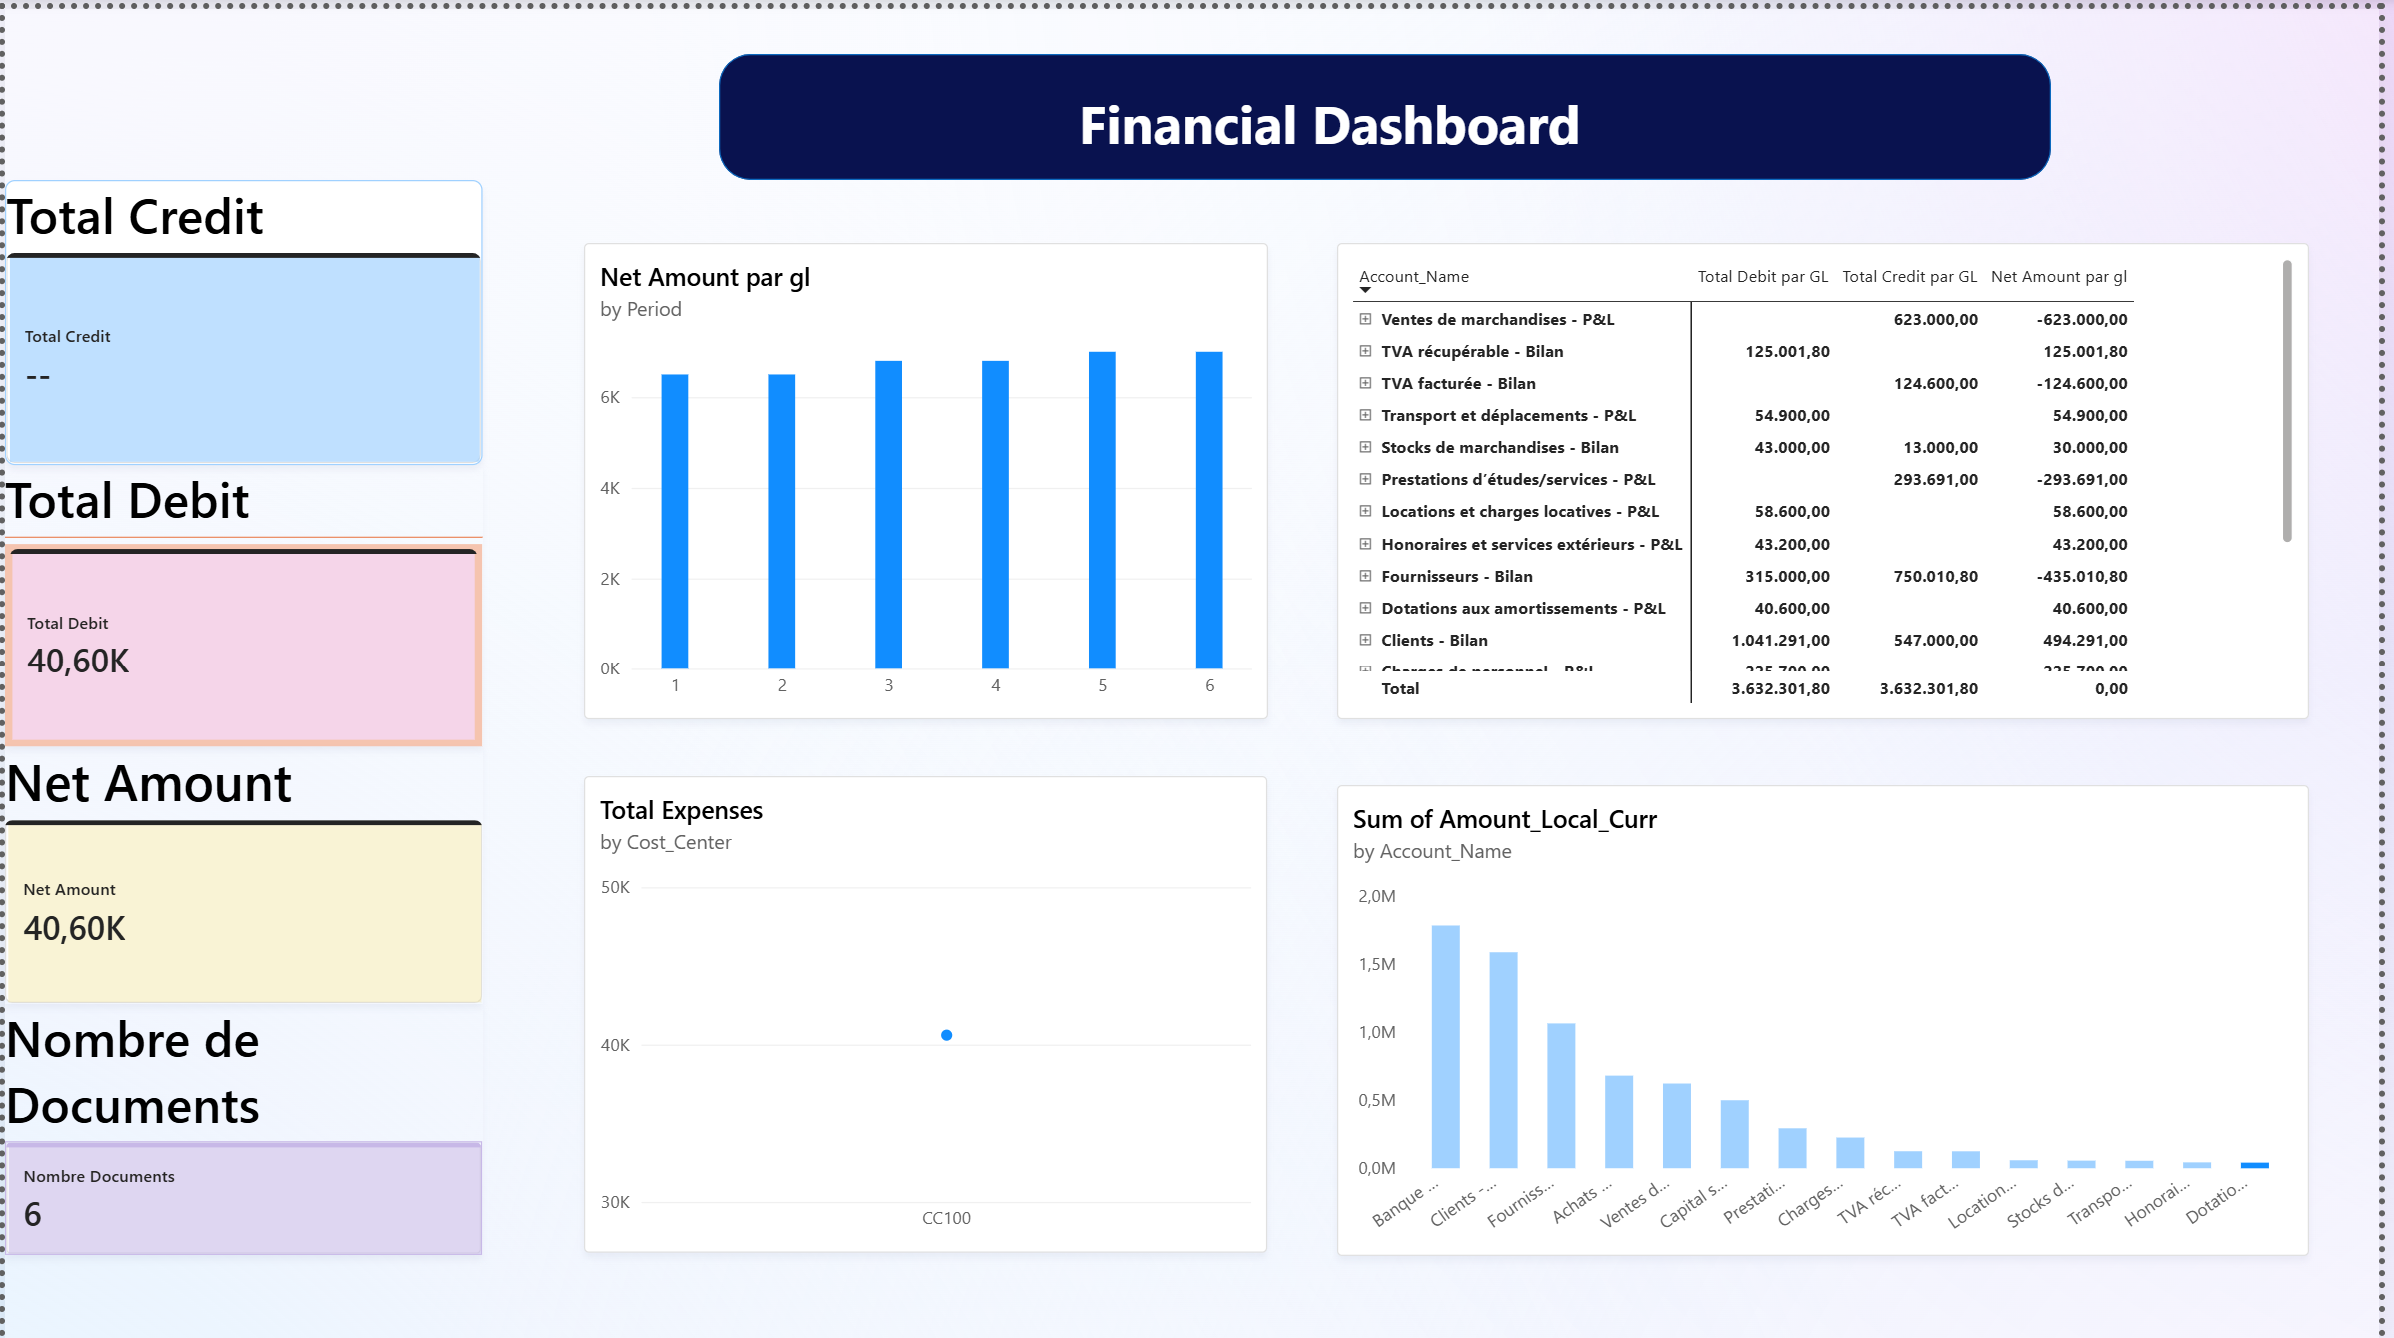

The page's visual inventory and layout, read from the dashboard file:
{"tool":"powerbi","page":{"name":"Executive Financial Overview","canvas":[1920,1080],"ordinal":0},"visuals":[{"type":"cardVisual","title":"Total Debit","fields":{"Data":["CLEAN_ACDOCA.Total Debit"]},"box":[0,368.8,386.3,228.3],"z":0},{"type":"cardVisual","title":"Total Credit","fields":{"Data":["CLEAN_ACDOCA.Total Credit"]},"box":[0,138,386.3,230.8],"z":1000},{"type":"cardVisual","title":"Net Amount","fields":{"Data":["CLEAN_ACDOCA.Net Amount"]},"box":[0,597.1,386.3,208.2],"z":2000},{"type":"cardVisual","title":"Nombre de Documents","fields":{"Data":["CLEAN_ACDOCA.Nombre Documents"]},"box":[0,805.3,386.3,203.2],"z":3000},{"type":"columnChart","fields":{"Category":["CLEAN_ACDOCA.Account_Name"],"Y":["Sum(CLEAN_ACDOCA.Amount_Local_Curr)"]},"box":[1164,574.5,644.7,461.6],"z":4000},{"type":"lineChart","fields":{"Category":["CLEAN_ACDOCA.Cost_Center"],"Y":["CLEAN_ACDOCA.Total Expenses"]},"box":[469.1,622.2,552.8,385.6],"z":5000},{"type":"pivotTable","fields":{"Rows":["CLEAN_ACDOCA.Account_Name","CLEAN_ACDOCA.GL_Account"],"Values":["CLEAN_ACDOCA.Total Debit par GL","CLEAN_ACDOCA.Total Credit par GL","CLEAN_ACDOCA.Net Amount par gl"]},"box":[1078.8,37.6,816.4,462.9],"z":6000},{"type":"columnChart","fields":{"Category":["CLEAN_ACDOCA.Period"],"Y":["CLEAN_ACDOCA.Net Amount par gl"]},"box":[469.1,67.7,551.9,386.3],"z":7000}]}

Visuals, with their boxes in screenshot pixels (x1, y1, x2, y2), scaled from the page's 1920x1080 canvas onto the 2394x1338 screenshot:
"Total Debit" cardVisual: x1=0 y1=457 x2=482 y2=740
"Total Credit" cardVisual: x1=0 y1=171 x2=482 y2=457
"Net Amount" cardVisual: x1=0 y1=740 x2=482 y2=998
"Nombre de Documents" cardVisual: x1=0 y1=998 x2=482 y2=1249
columnChart - CLEAN_ACDOCA.Account_Name x Sum(CLEAN_ACDOCA.Amount_Local_Curr): x1=1451 y1=712 x2=2255 y2=1284
lineChart - CLEAN_ACDOCA.Cost_Center x CLEAN_ACDOCA.Total Expenses: x1=585 y1=771 x2=1274 y2=1249
pivotTable - CLEAN_ACDOCA.Account_Name x CLEAN_ACDOCA.GL_Account: x1=1345 y1=47 x2=2363 y2=620
columnChart - CLEAN_ACDOCA.Period x CLEAN_ACDOCA.Net Amount par gl: x1=585 y1=84 x2=1273 y2=562
